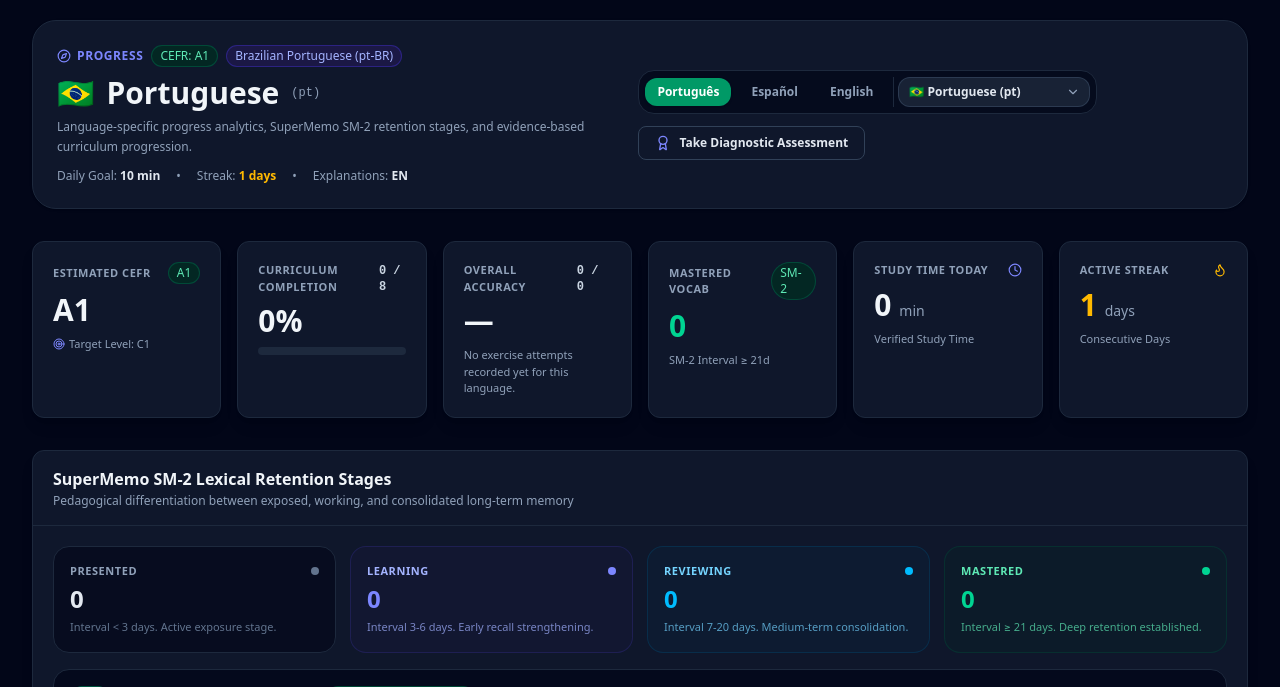
Test: Lexilume Progress Page Redesign & Learning Analytics Suite › 4. Switches between all supported languages without cross-language contamination
# Switch to English via quick button
Click the button "English".
click(852, 92)  # box left=818, top=78, right=885, bottom=106
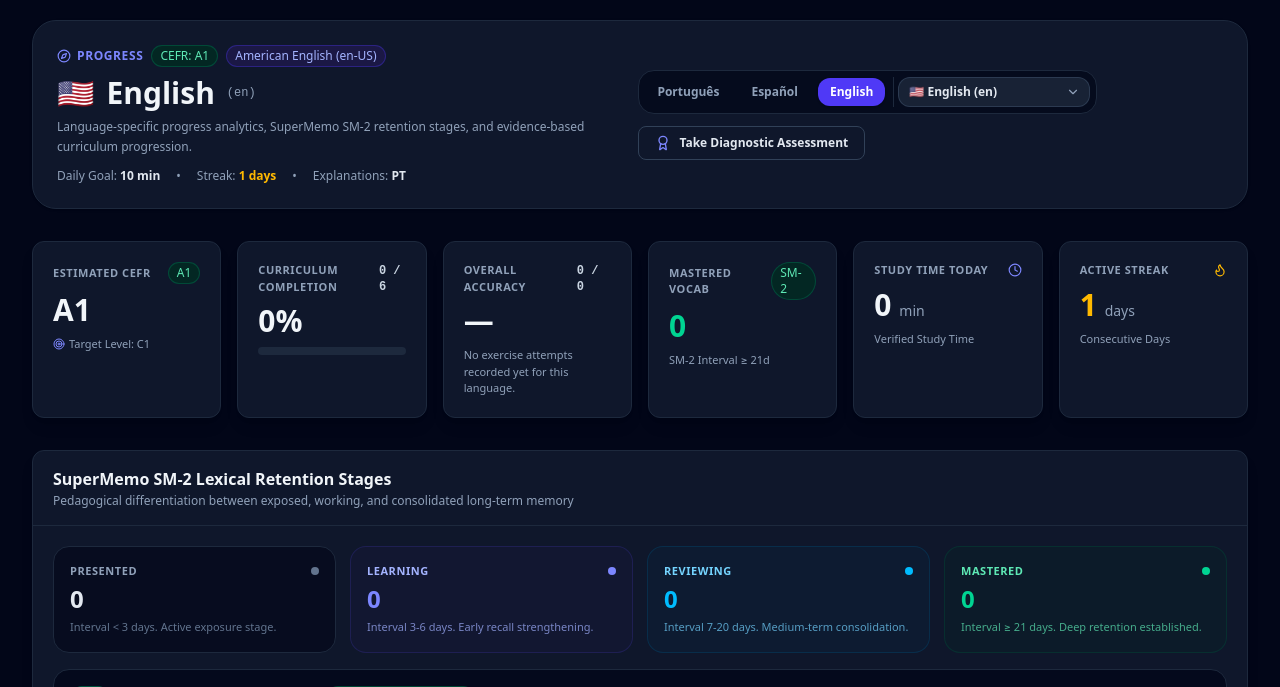
# Switch to Spanish via quick button
Click the button "Español".
click(775, 92)  # box left=739, top=78, right=810, bottom=106
(page scrolled)
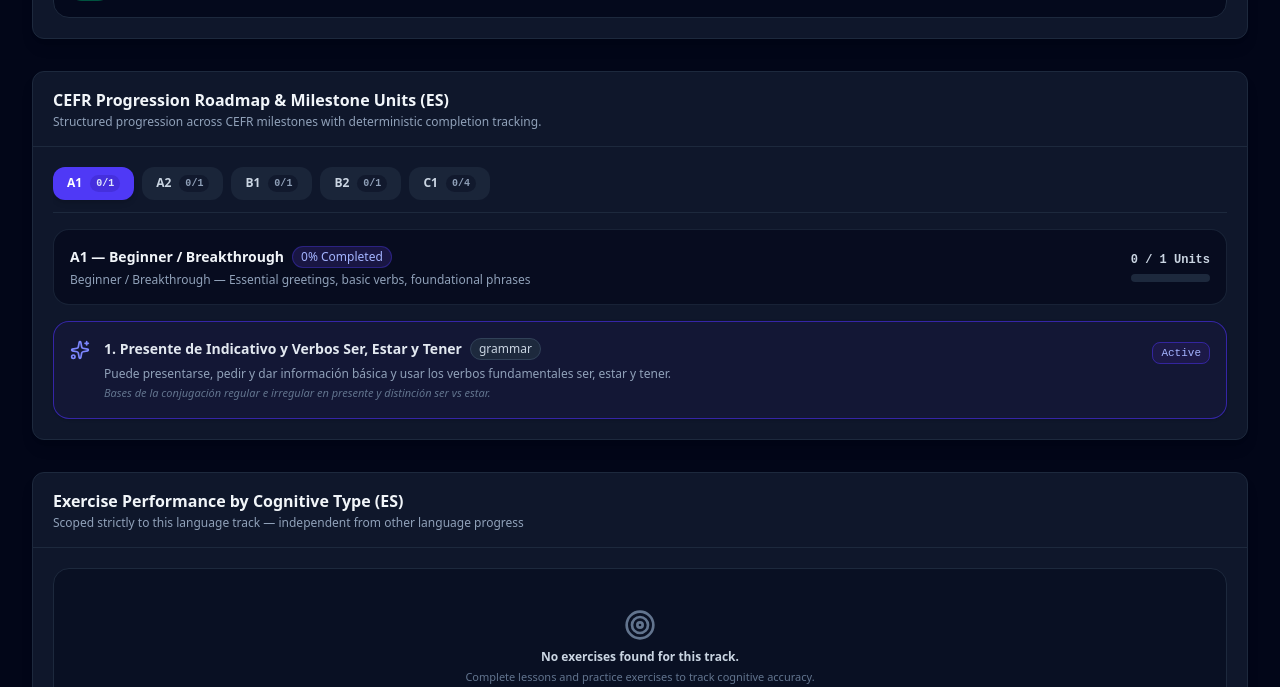
Check: the text "1. Presente de Indicativo y Verbos Ser, Estar y Tener" is shown, box left=104, top=339, right=462, bottom=359
